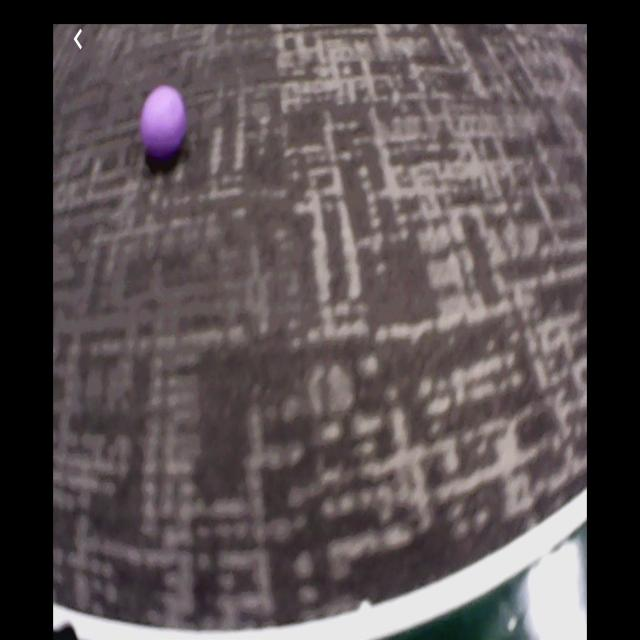ball: (143, 87, 185, 155)
